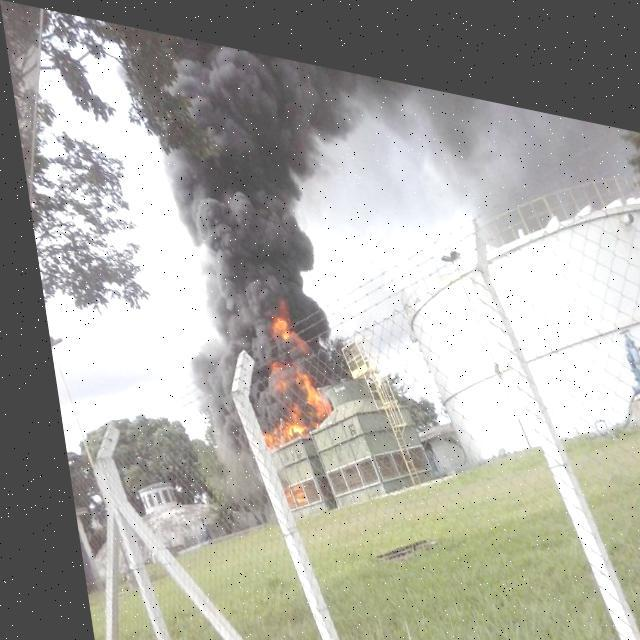Fire: (231, 296, 332, 459)
